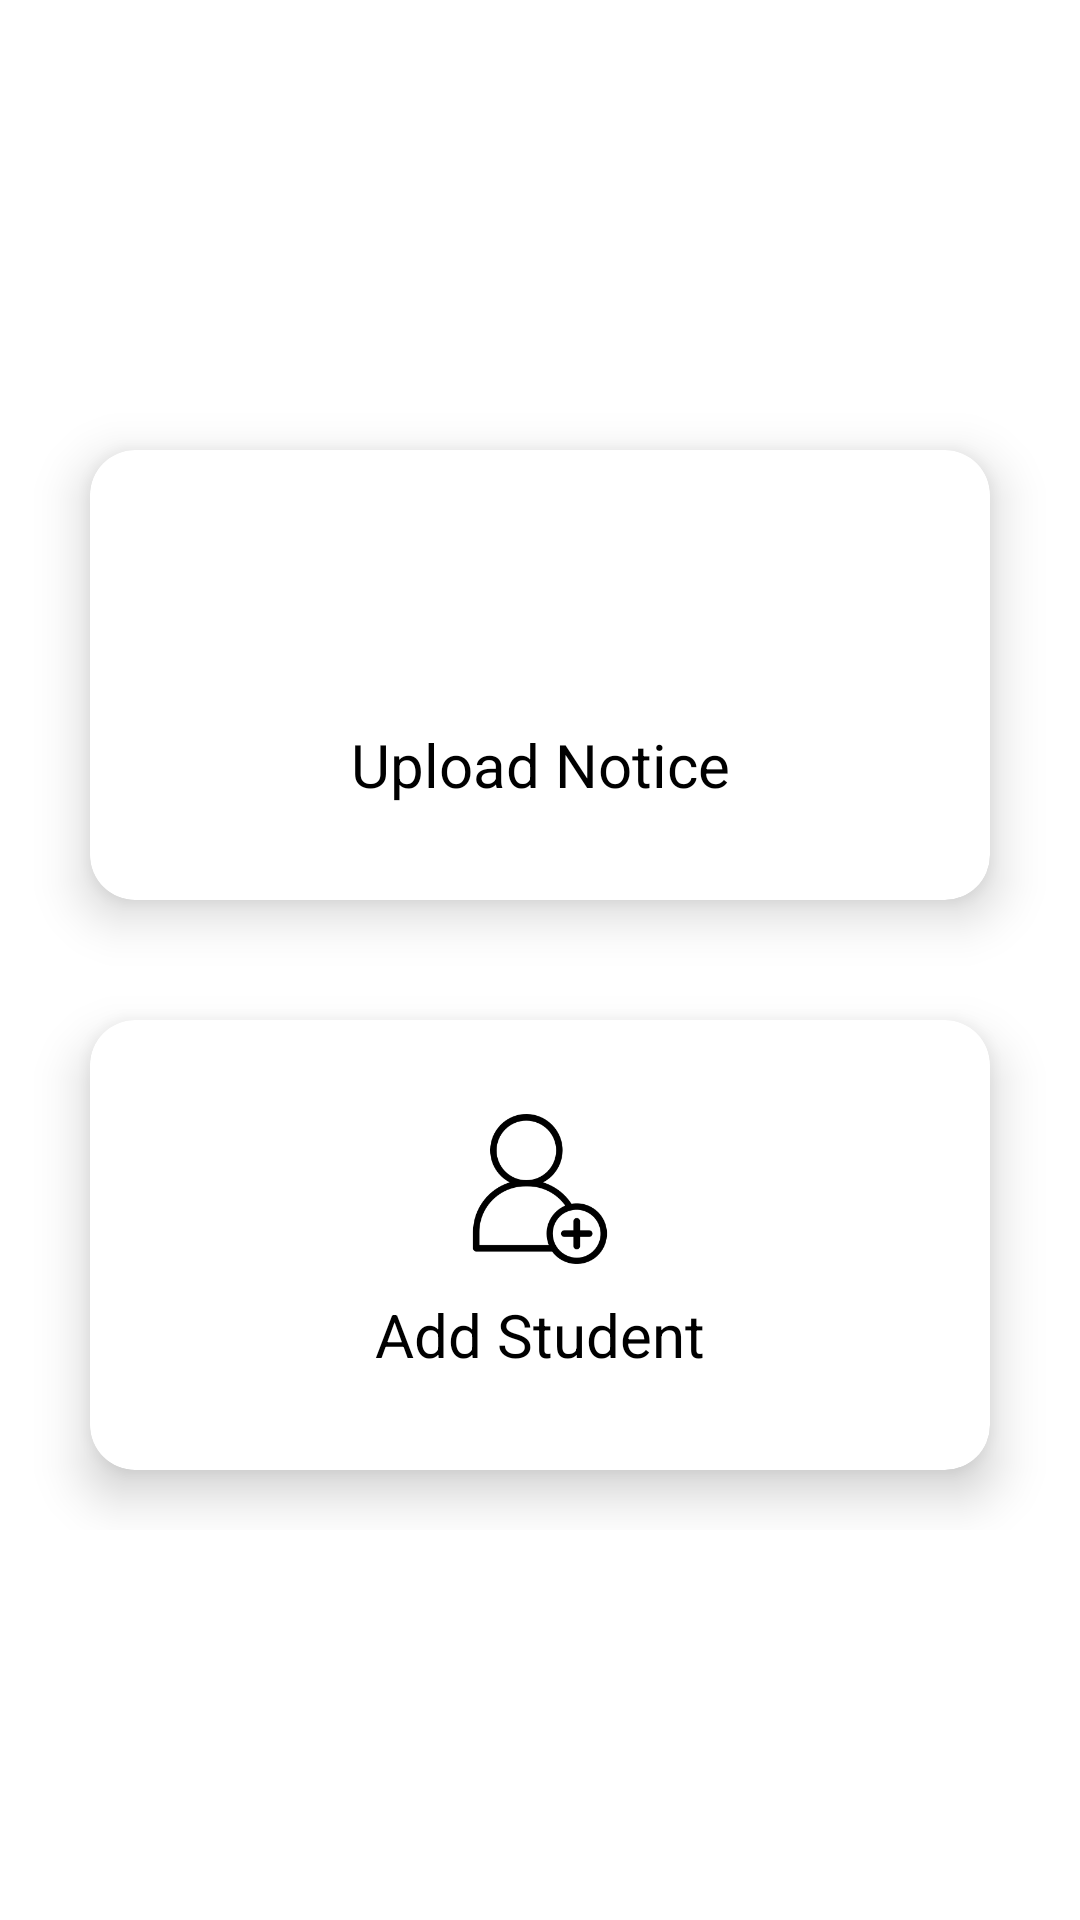

Named icons in this screenshot (1080 × 1920) and their centers, [x,y]:
add user: [540,1189]
